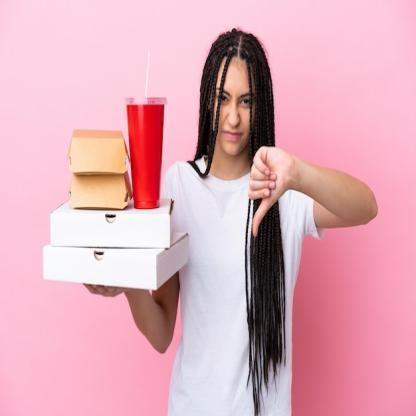thumb_down: (249, 141, 289, 240)
